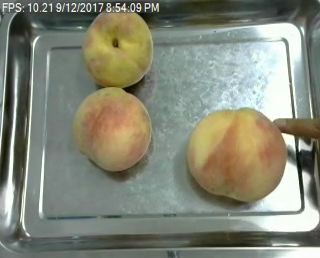Peach: (187, 106, 287, 201), (72, 85, 151, 171), (82, 6, 154, 87)
